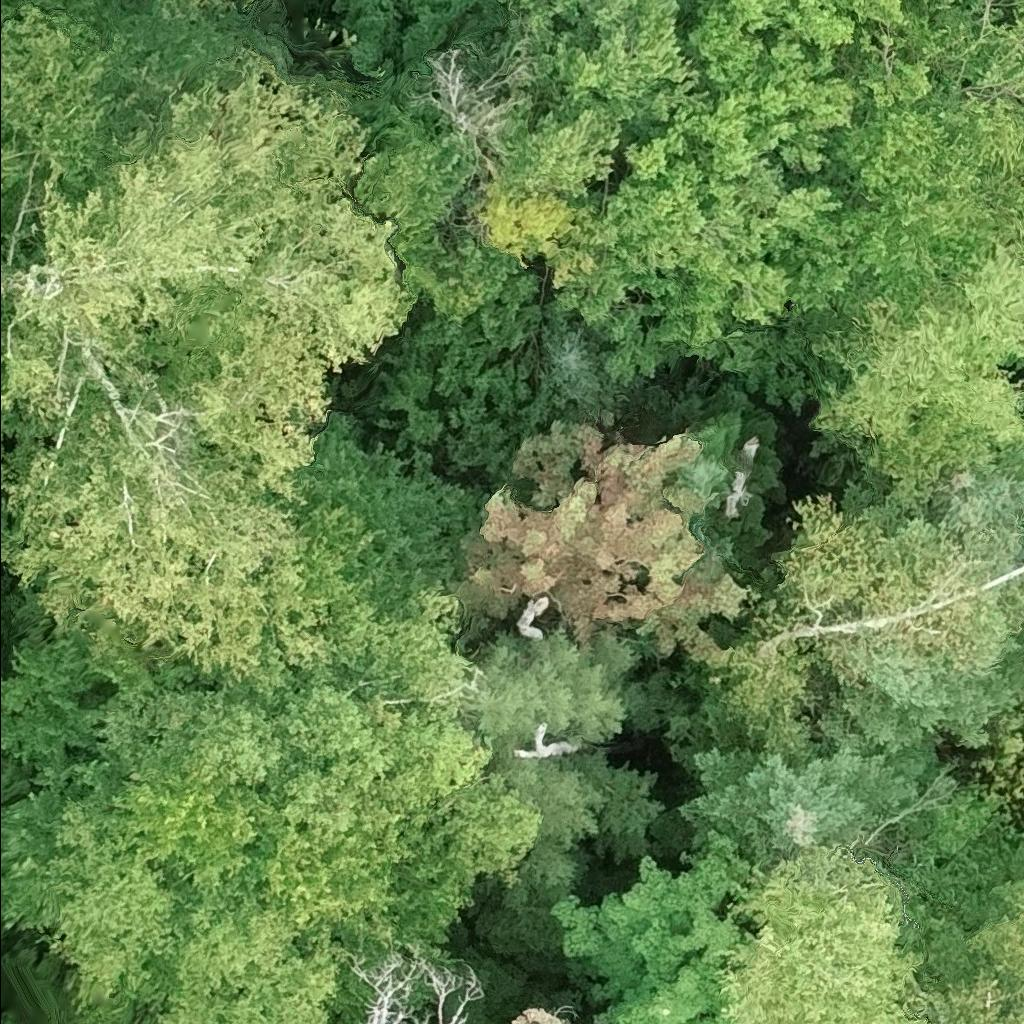crown: (0, 48, 417, 451), (0, 310, 385, 682), (542, 10, 861, 341), (777, 198, 1023, 415), (829, 0, 1023, 255), (666, 698, 959, 857), (700, 594, 992, 744), (548, 830, 774, 1023), (497, 0, 701, 210), (718, 841, 939, 1023), (743, 479, 962, 638), (0, 3, 159, 207), (832, 625, 1023, 752), (410, 43, 533, 181), (922, 901, 1023, 1023), (539, 295, 630, 426), (343, 947, 488, 1023), (699, 0, 910, 50), (670, 404, 750, 500), (934, 470, 1023, 539), (0, 260, 24, 304)
